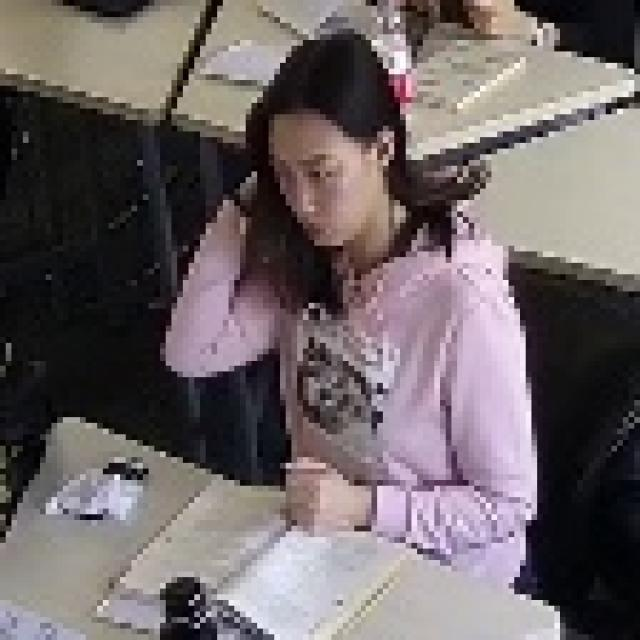trance: (156, 26, 538, 576)
